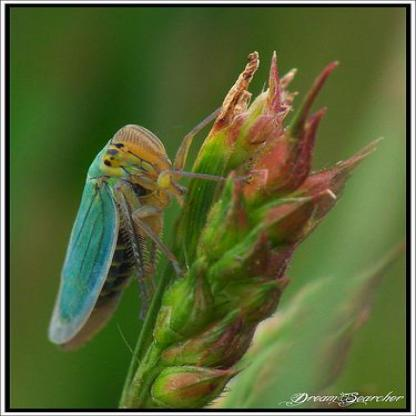Green-Leafhopper: (36, 121, 197, 364)
